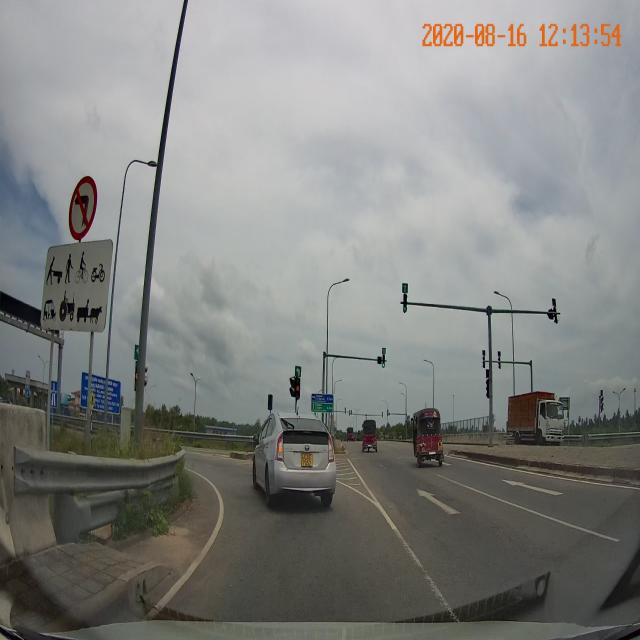Strelka vpered: (416, 486, 462, 517), (500, 479, 565, 497)
